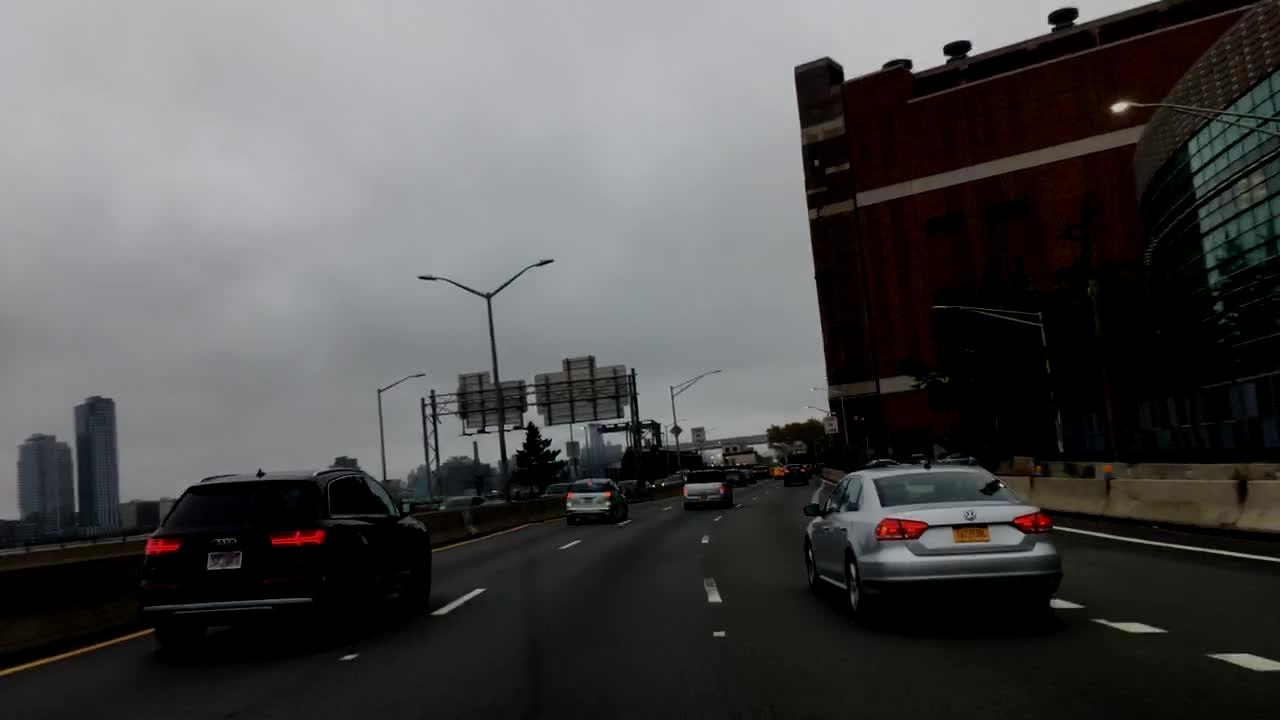Audi: (207, 535, 248, 553)
Volkswagen: (958, 509, 980, 524)
